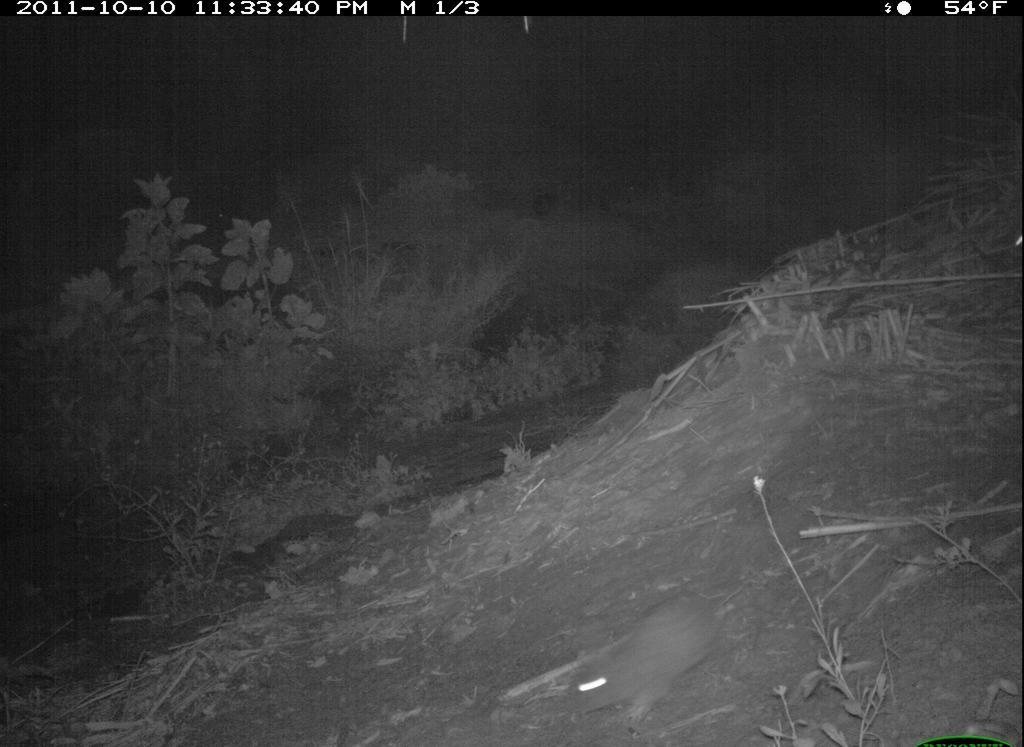rabbit: (551, 589, 756, 713)
